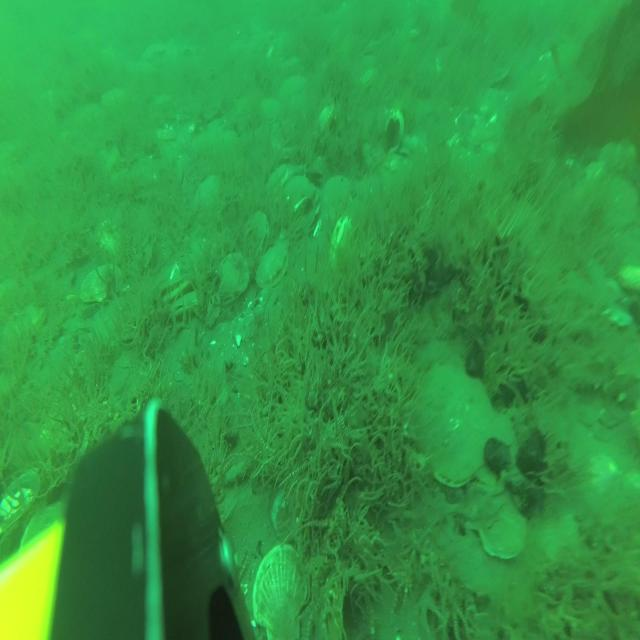holothurian: (564, 349, 640, 419)
scallop: (416, 364, 491, 488), (253, 542, 309, 638), (460, 449, 509, 521), (478, 495, 529, 561), (475, 410, 517, 489), (2, 466, 42, 530), (82, 258, 123, 307), (216, 253, 247, 305), (284, 173, 317, 218), (322, 176, 353, 220), (257, 248, 287, 290), (242, 212, 270, 256), (194, 178, 222, 218), (310, 102, 336, 138), (169, 293, 199, 322), (269, 160, 293, 194), (158, 276, 188, 302), (282, 74, 308, 103), (102, 81, 125, 112), (257, 95, 279, 127)
